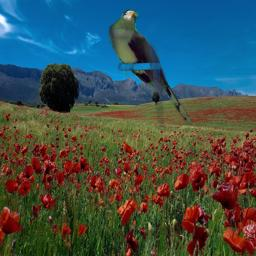Cuckoo: (108, 9, 199, 127)
